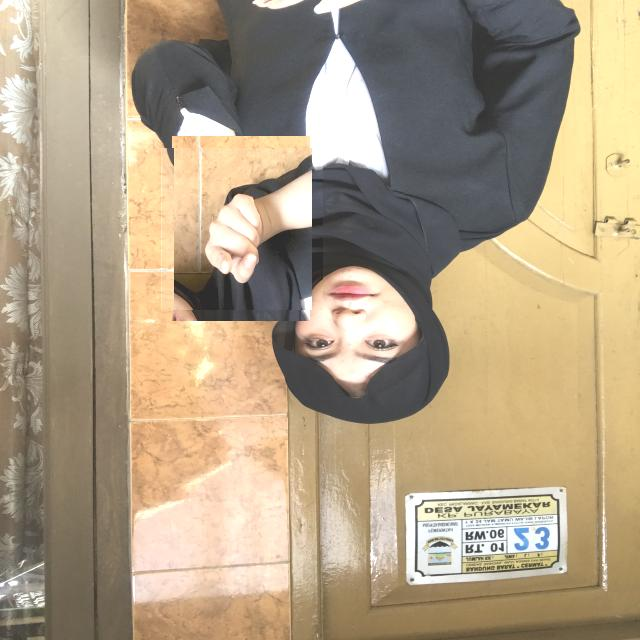kamu: (160, 148, 322, 310)
